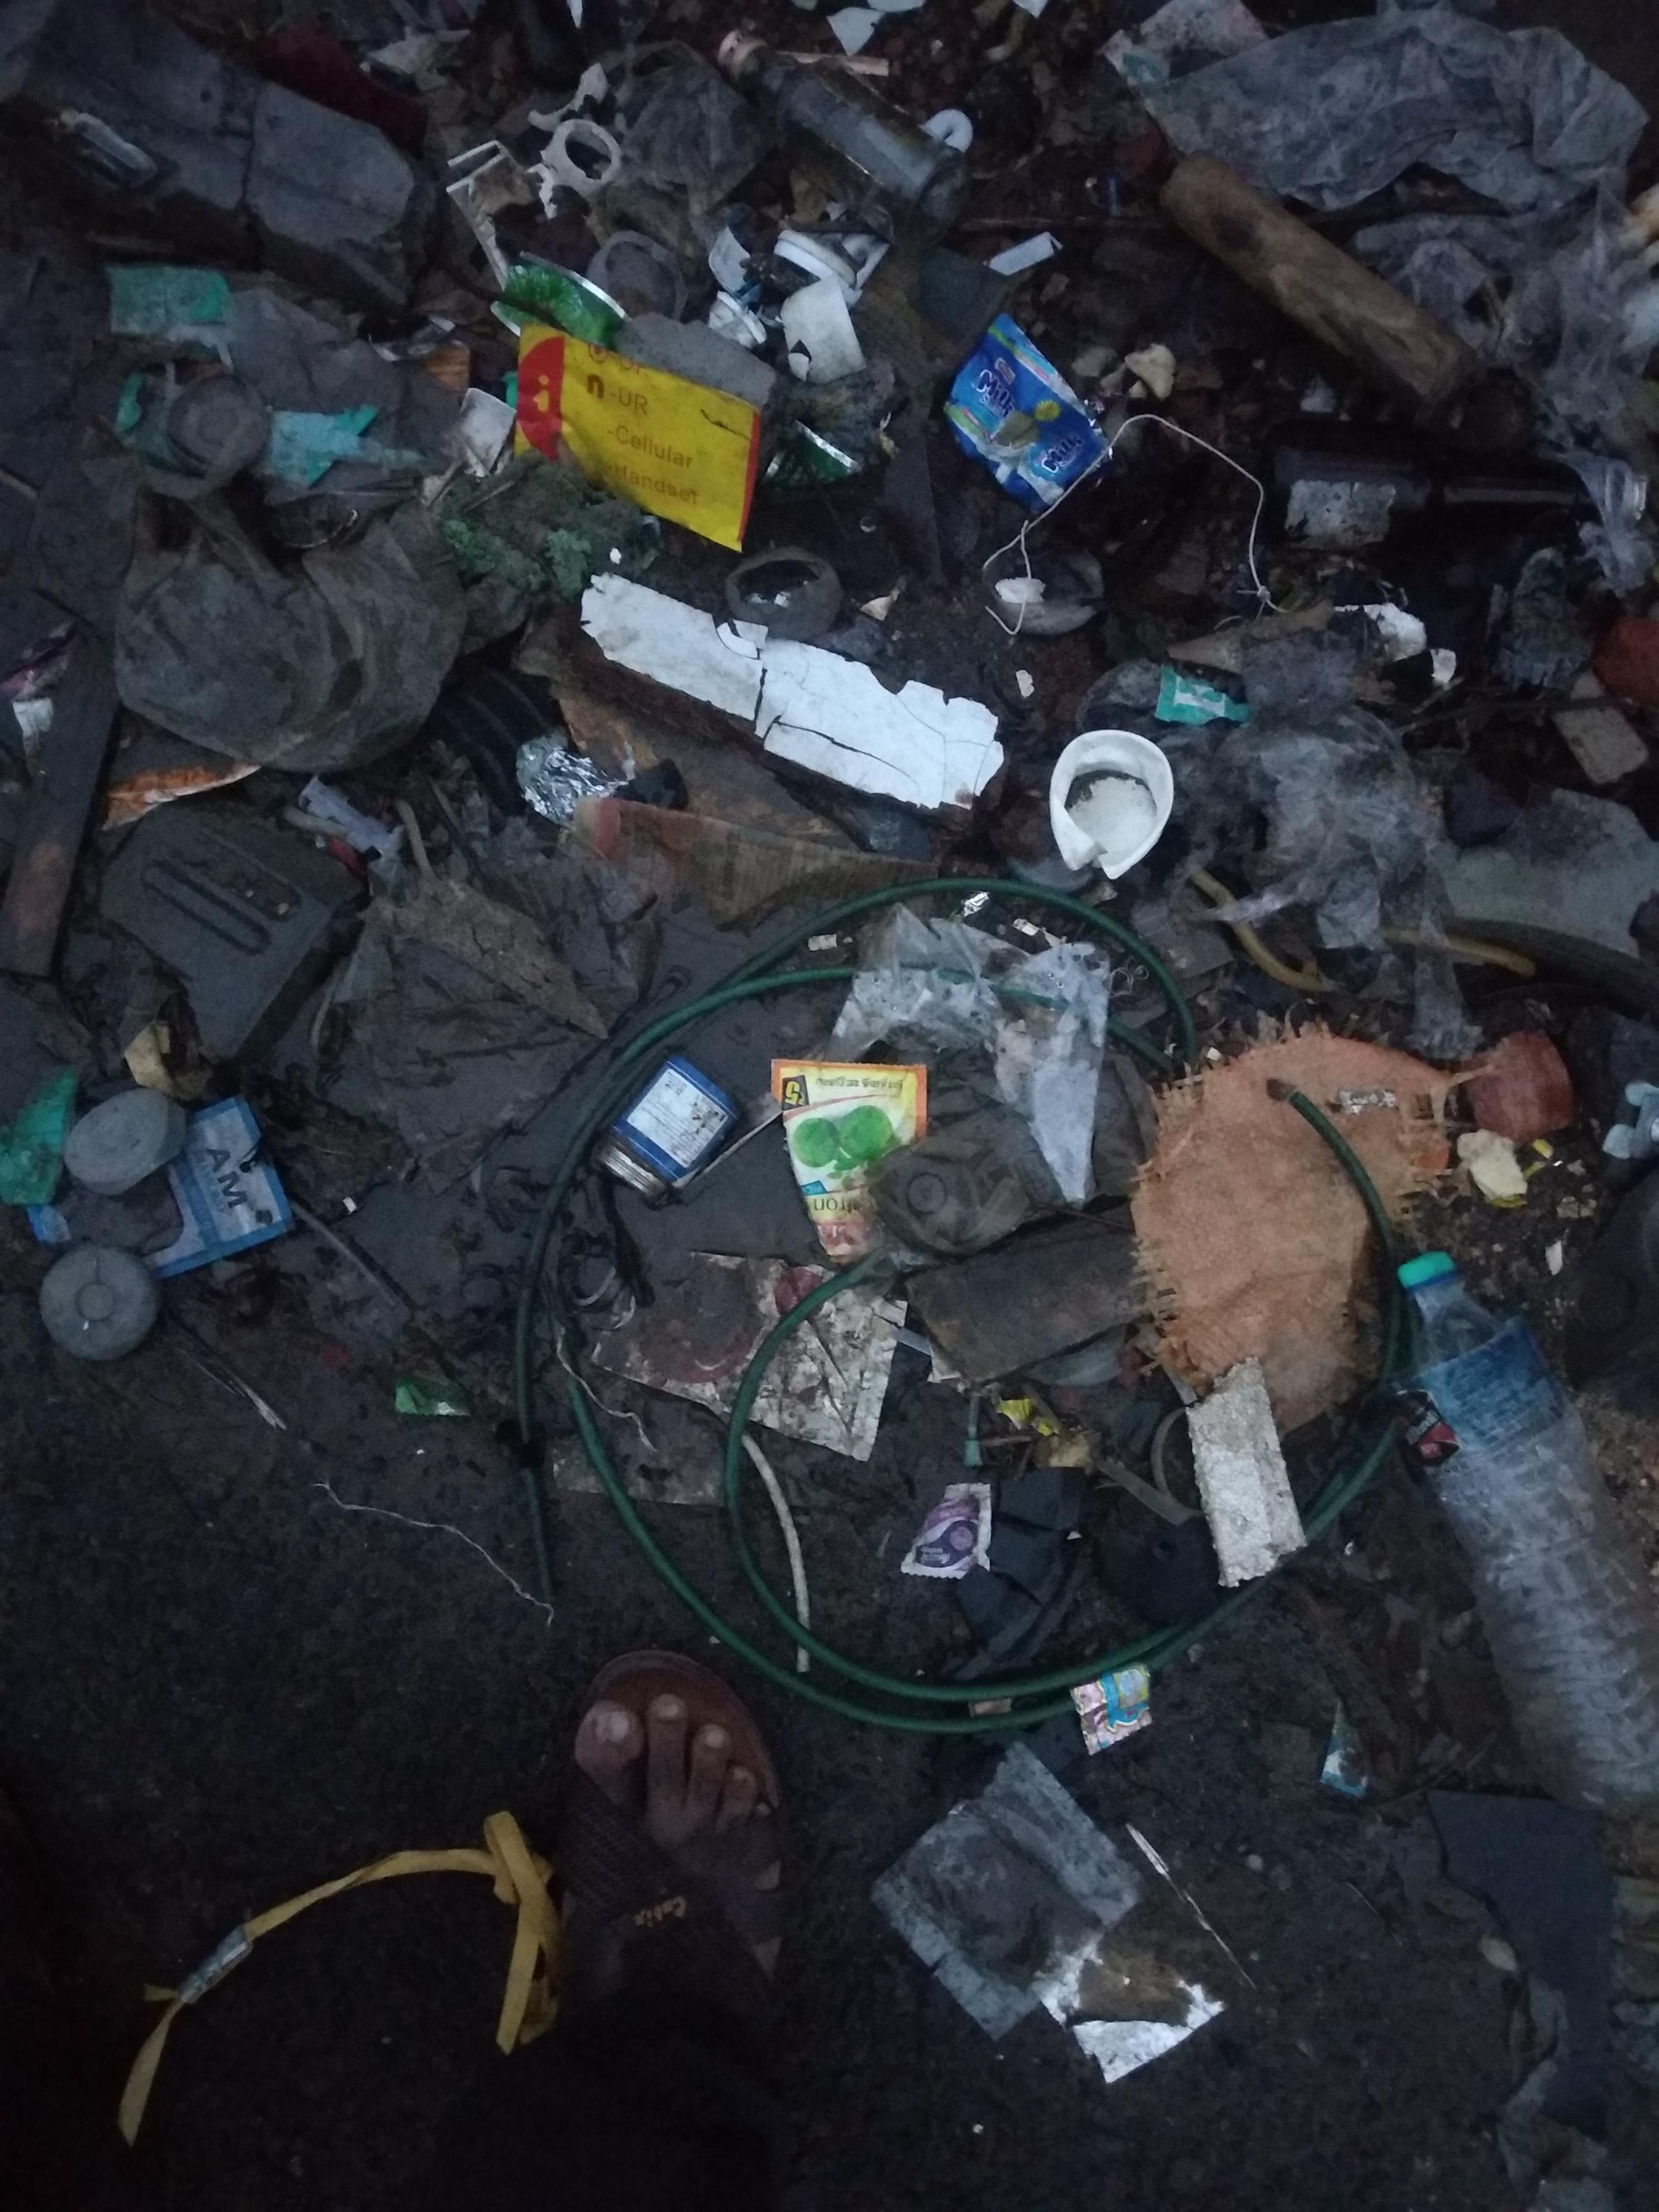trash: (66, 0, 1659, 1667)
